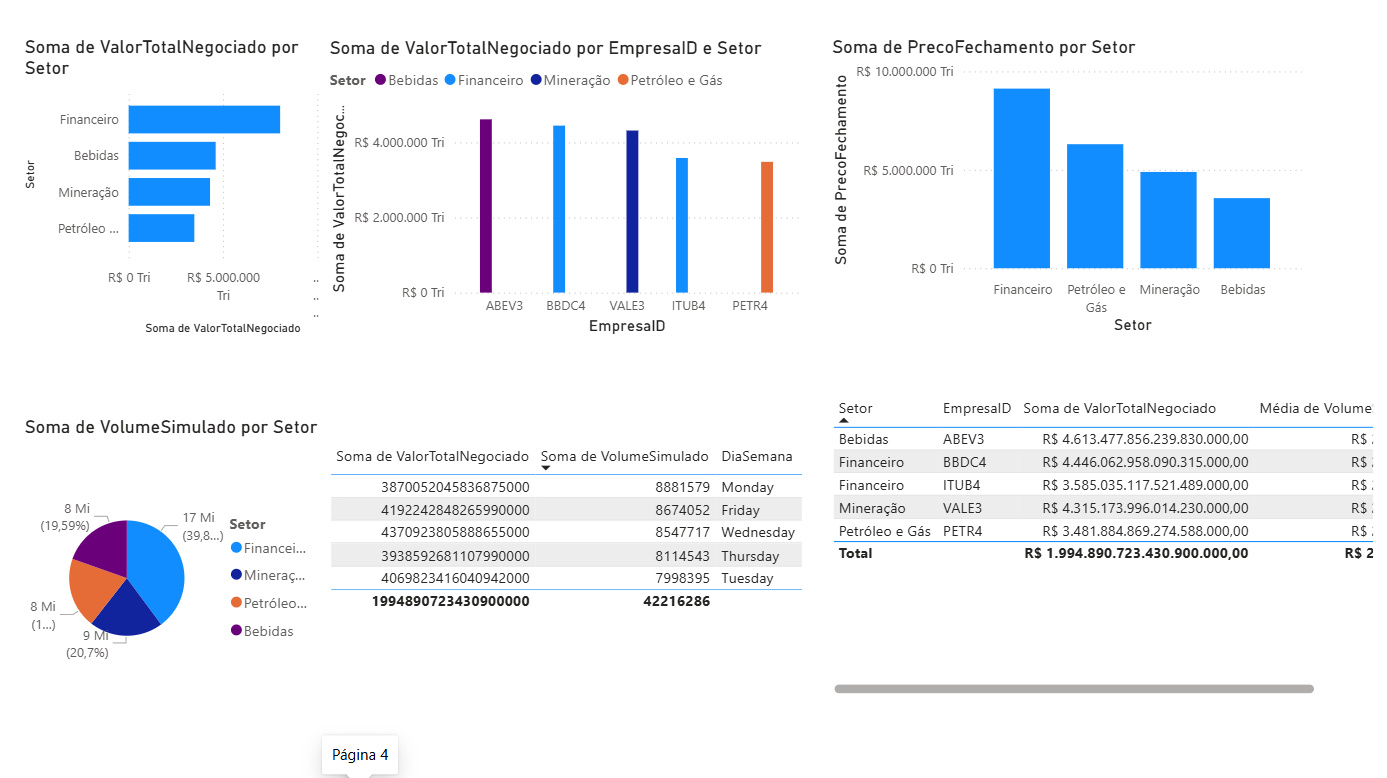

The dashboard page shown, as its layout file describes it:
{"tool":"powerbi","page":{"name":"Página 4","canvas":[1280,720],"ordinal":3},"visuals":[{"type":"barChart","fields":{"Y":["Sum(fato_vendas_bovespa.ValorTotalNegociado)"],"Category":["dim_empresa.Setor"]},"box":[19.8,34.6,280.2,280.2],"z":0},{"type":"pieChart","fields":{"Y":["Sum(fato_vendas_bovespa.VolumeSimulado)"],"Category":["dim_empresa.Setor"]},"box":[19.8,384,280.2,280.2],"z":1000},{"type":"tableEx","fields":{"Values":["Sum(fato_vendas_bovespa.ValorTotalNegociado)","Sum(fato_vendas_bovespa.VolumeSimulado)","dim_tempo.DiaSemana"]},"box":[300,404.9,461.7,240.7],"z":2000},{"type":"clusteredColumnChart","fields":{"Category":["dim_empresa.EmpresaID"],"Y":["Sum(fato_vendas_bovespa.ValorTotalNegociado)"],"Series":["dim_empresa.Setor"]},"box":[300,35.8,442,279],"z":3000},{"type":"columnChart","fields":{"Category":["dim_empresa.Setor"],"Y":["Sum(fato_vendas_bovespa.PrecoFechamento)"]},"box":[761.7,34.6,442,279],"z":3001},{"type":"tableEx","fields":{"Values":["dim_empresa.Setor","dim_empresa.EmpresaID","Sum(fato_vendas_bovespa.ValorTotalNegociado)","Avg(fato_vendas_bovespa.VolumeSimulado)"]},"box":[761.7,360.5,507.4,284],"z":3002}]}

Visuals, with their boxes in screenshot pixels (x1, y1, x2, y2), scaled from the page's 1280x720 canvas onto the 1387x778 screenshot:
barChart - Sum(fato_vendas_bovespa.ValorTotalNegociado) x dim_empresa.Setor: <box>21,37,325,340</box>
pieChart - Sum(fato_vendas_bovespa.VolumeSimulado) x dim_empresa.Setor: <box>21,415,325,718</box>
tableEx - Sum(fato_vendas_bovespa.ValorTotalNegociado) x Sum(fato_vendas_bovespa.VolumeSimulado): <box>325,438,825,698</box>
clusteredColumnChart - dim_empresa.EmpresaID x Sum(fato_vendas_bovespa.ValorTotalNegociado): <box>325,39,804,340</box>
columnChart - dim_empresa.Setor x Sum(fato_vendas_bovespa.PrecoFechamento): <box>825,37,1304,339</box>
tableEx - dim_empresa.Setor x dim_empresa.EmpresaID: <box>825,390,1375,696</box>
